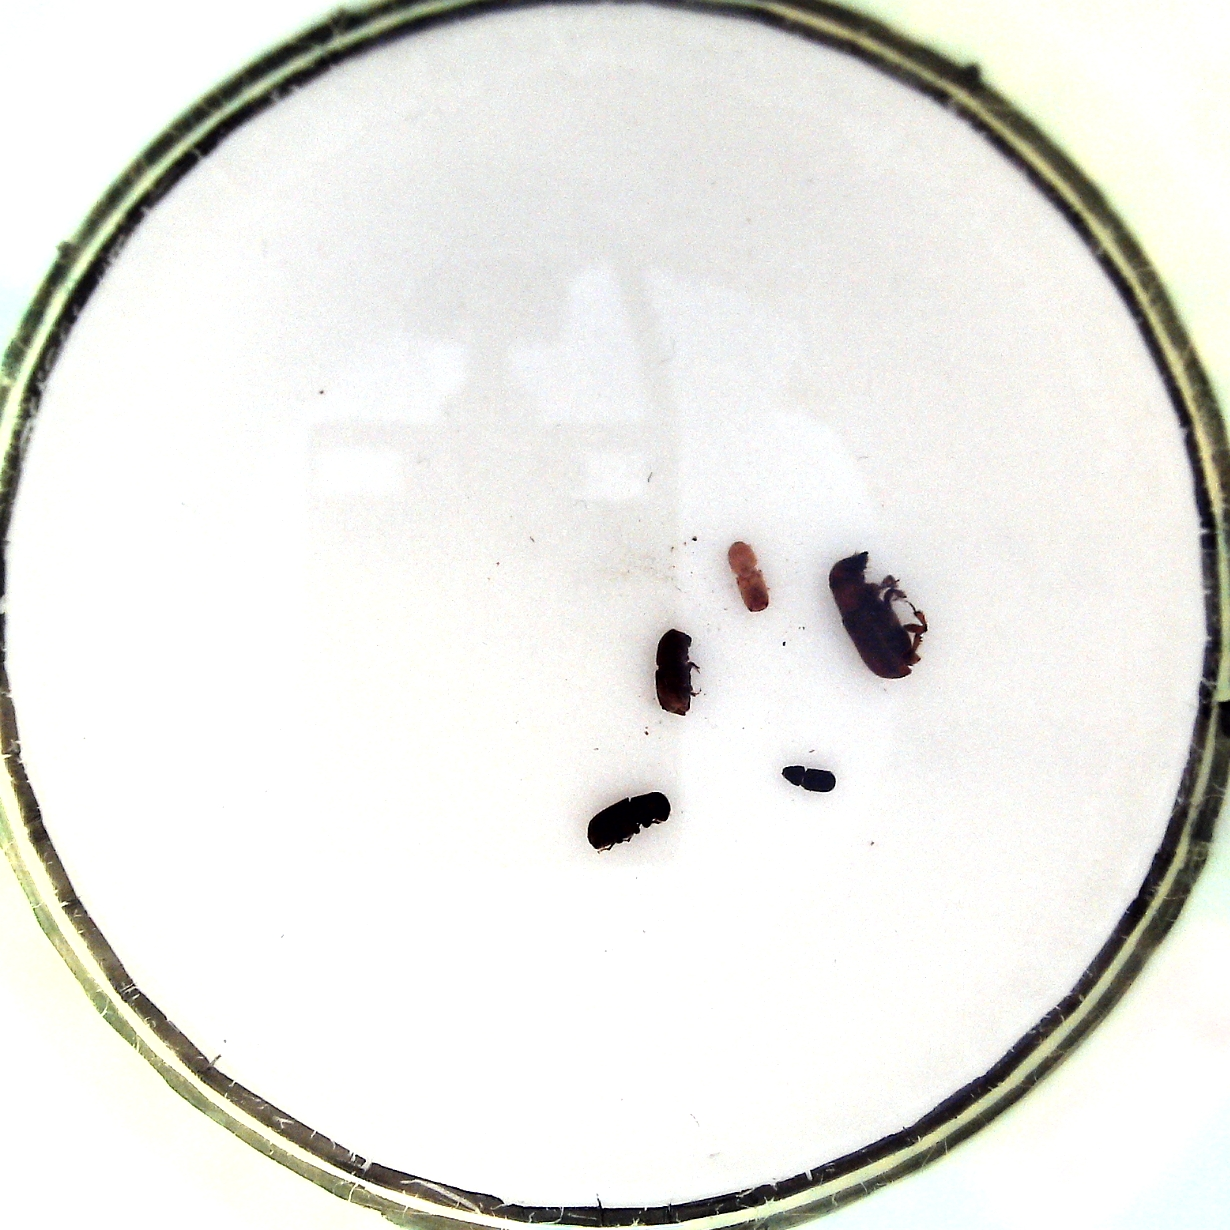Leconte: (825, 542, 929, 683)
Linnaeus: (650, 626, 702, 717)
acuminatus: (725, 534, 776, 616)
armandi: (583, 788, 675, 858)
coleoptera: (776, 760, 845, 796)
